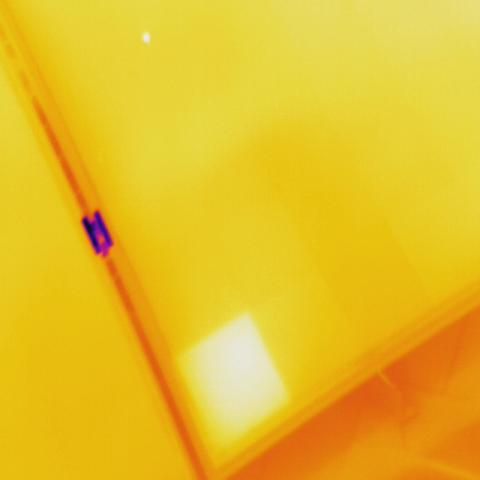fault: (158, 307, 302, 460), (139, 28, 155, 48)
